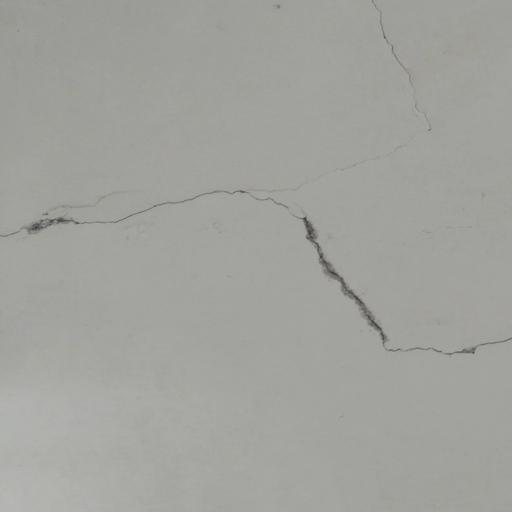major_crack: (0, 151, 512, 369)
